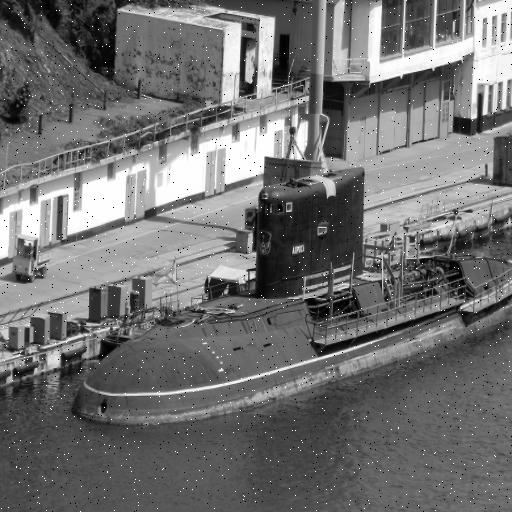submarine: (72, 162, 512, 425)
